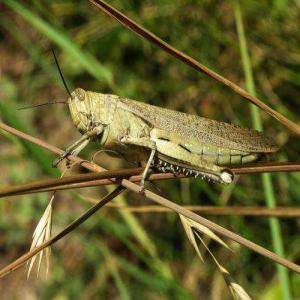locust: (44, 75, 277, 189)
